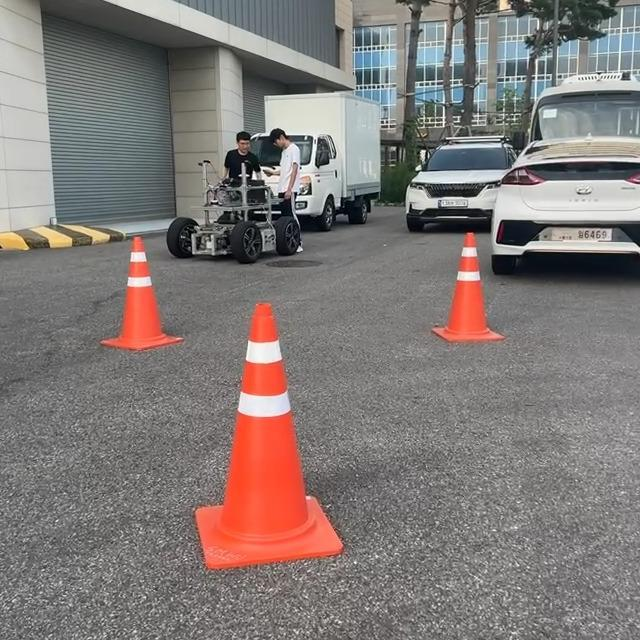fallen_object: (126, 269, 332, 604), (73, 219, 187, 412), (415, 216, 529, 385)
